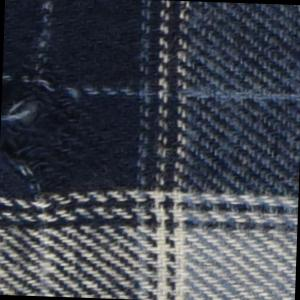Damage: (1, 28, 118, 237)
